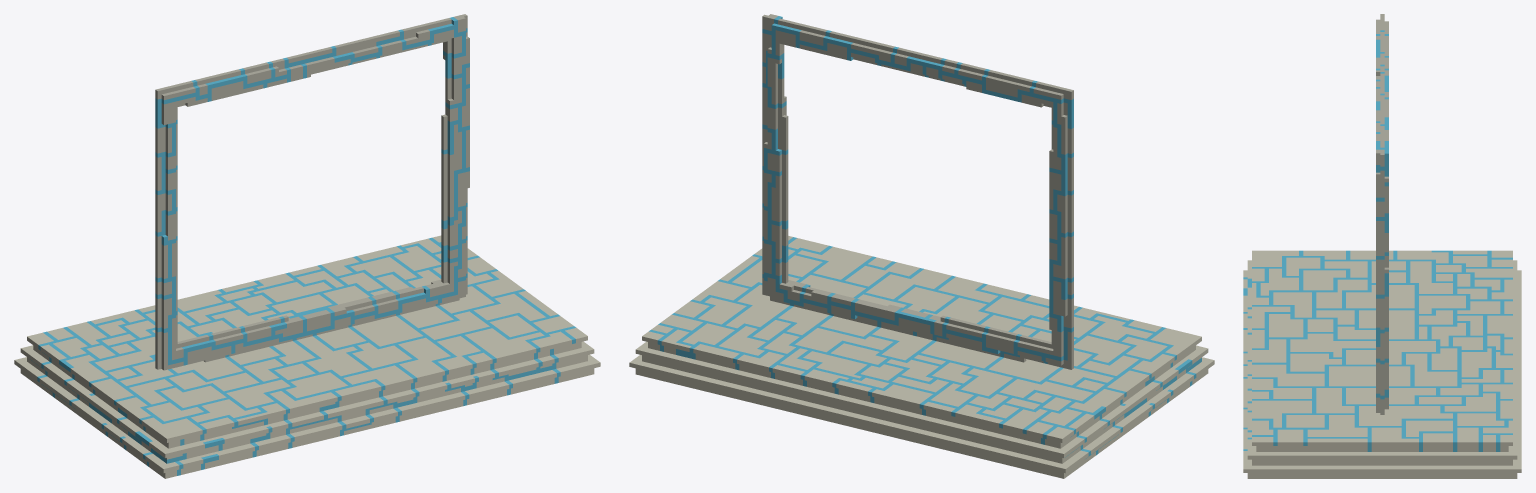
The model's file is portal carre.obj.
The picture shows the model from 3 angles, left to right: view 1: azimuth 30°, elevation 25°; view 2: azimuth 150°, elevation 25°; view 3: azimuth 270°, elevation 25°; orthographic projection. The views are drawn at different scales.
Parts seen in each view (by area): view 1: portal carre; view 2: portal carre; view 3: portal carre.
Boxes of the visible parts, x1,y1,x2,y2 form: portal carre: [14, 14, 600, 478]; portal carre: [629, 14, 1214, 478]; portal carre: [1243, 14, 1521, 478].
Bounding box in the file's own units: 110 × 77 × 65.
